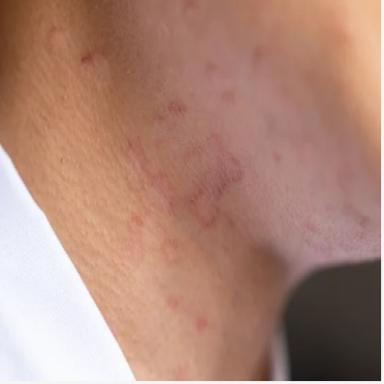Tinea-Corporis: (187, 134, 244, 225), (126, 138, 176, 215), (79, 51, 109, 80), (127, 215, 144, 264), (176, 358, 199, 381), (45, 26, 62, 55), (163, 238, 179, 265), (169, 98, 187, 117), (205, 63, 221, 82), (183, 0, 199, 18), (153, 114, 167, 134), (221, 90, 235, 106), (197, 314, 208, 331), (168, 298, 179, 309)
